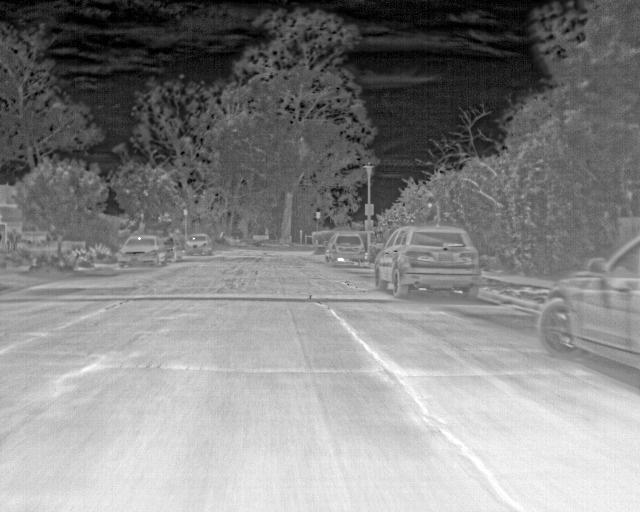car: (538, 230, 639, 374), (374, 225, 480, 298), (113, 231, 168, 267), (324, 232, 366, 268), (184, 235, 215, 257), (159, 236, 183, 263)
